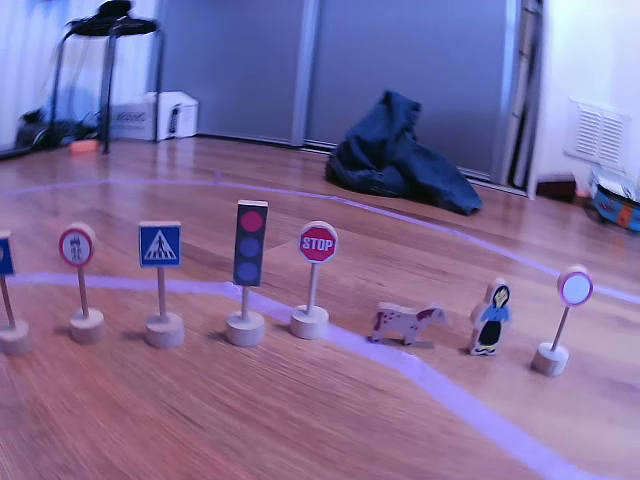fietspad: (61, 225, 91, 269)
mens: (469, 279, 514, 355)
paard: (370, 303, 449, 343)
roodlicht: (234, 201, 270, 284)
stopbord: (298, 222, 339, 263)
wegdicht: (559, 270, 593, 306)
zebrapad: (138, 221, 181, 269)
